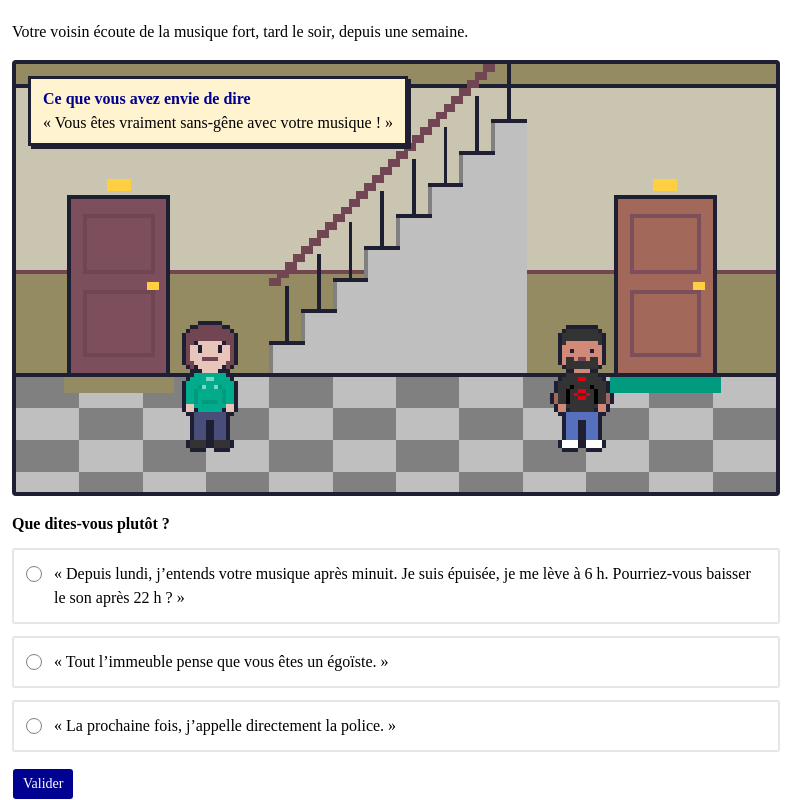
Scenario: RephraseGame › raises it otherwise and shows the reply that calms things down
(page scrolled)
Click the 2nd radio button.
click(34, 662)  # box left=26, top=654, right=42, bottom=670
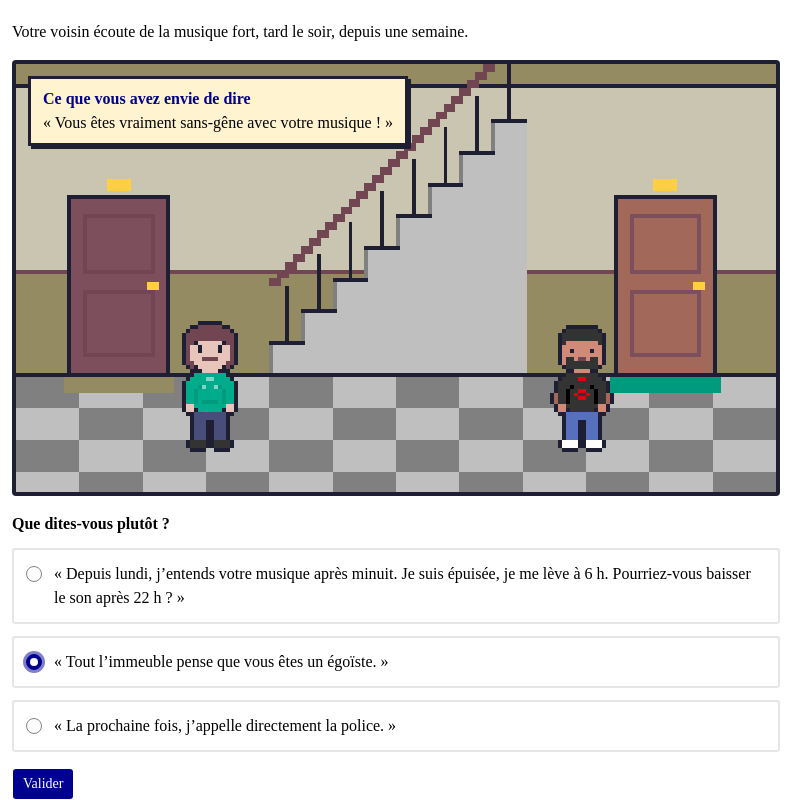
Click the button "Valider".
click(43, 784)  # box left=12, top=768, right=74, bottom=799
(page scrolled)
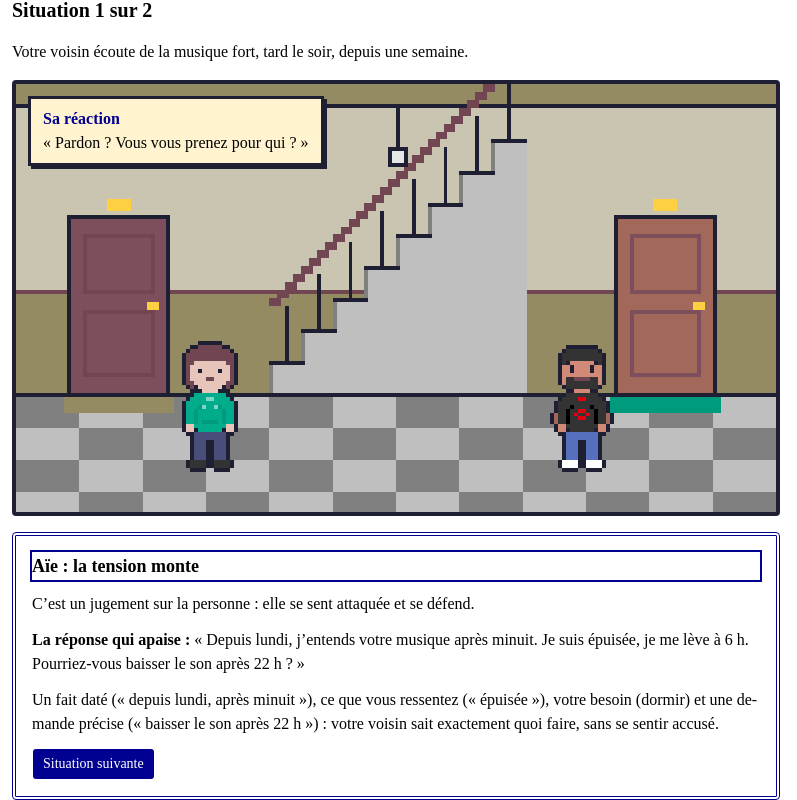
Now the text "La réponse qui apaise :" is shown, box left=32, top=630, right=194, bottom=648
